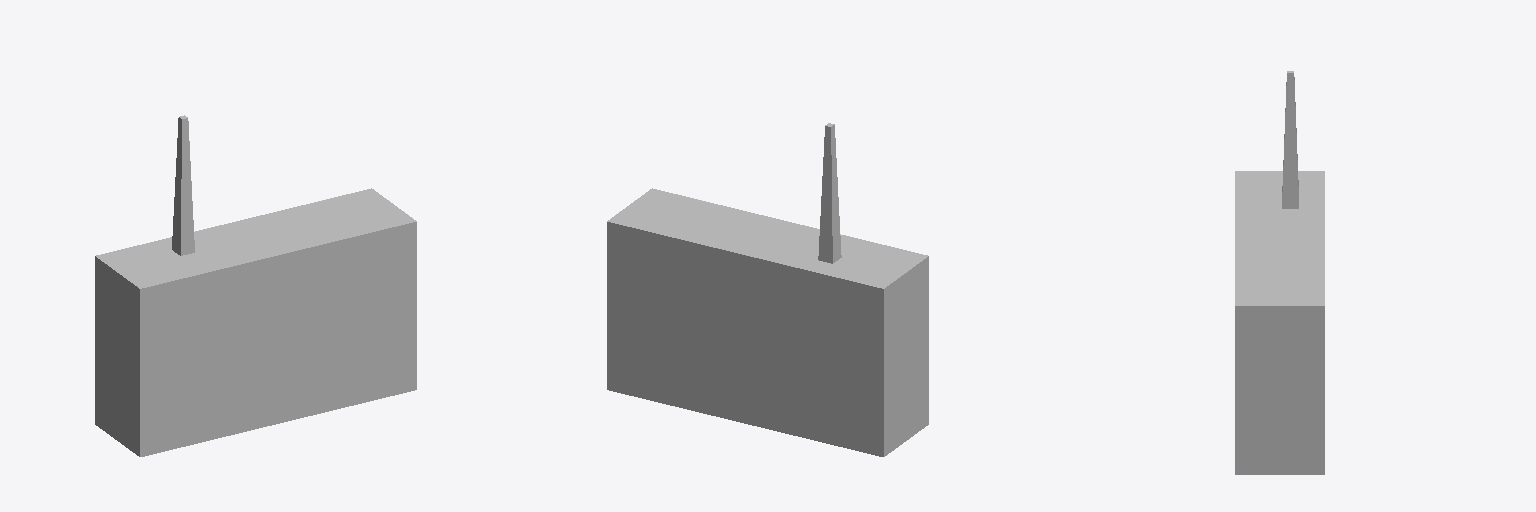
Rendered from radio.obj.
3 renders of one model, left to right at view 1: azimuth 30°, elevation 25°; view 2: azimuth 150°, elevation 25°; view 3: azimuth 270°, elevation 25°, orthographic.
Parts seen in each view (by area): view 1: radio; view 2: radio; view 3: radio.
Part boxes in pixels (left/top/right/bottom): radio: left=95, top=115, right=416, bottom=456; radio: left=607, top=123, right=928, bottom=456; radio: left=1235, top=71, right=1324, bottom=474.
Size of the model in its own units: 0.2987 by 0.3115 by 0.0846.